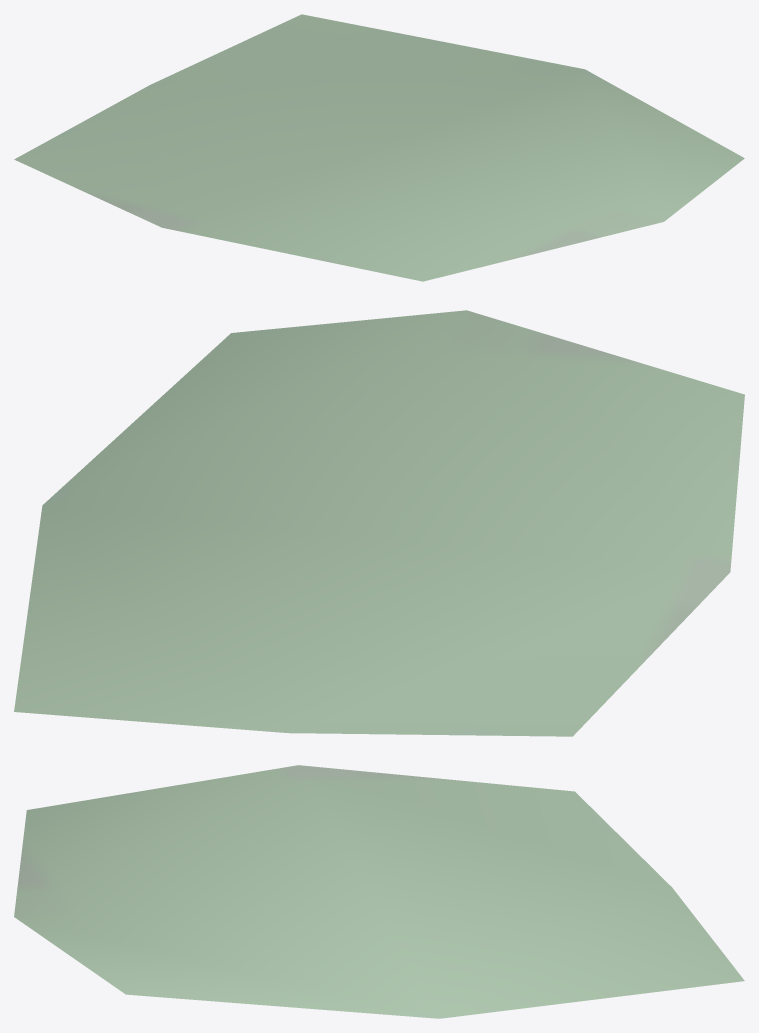
File: TROLLHOLE02_HOLECAP19.fbx
3 renders of one model, top to bottom at view 1: azimuth 30°, elevation 25°; view 2: azimuth 150°, elevation 25°; view 3: azimuth 270°, elevation 25°, orthographic. The views are drawn at different scales.
Visible parts, largest first — view 1: TROLLHOLE02_HOLECAP19; view 2: TROLLHOLE02_HOLECAP19; view 3: TROLLHOLE02_HOLECAP19.
Part boxes in pixels (<box>): TROLLHOLE02_HOLECAP19: <box>14,14,744,281</box>; TROLLHOLE02_HOLECAP19: <box>14,310,744,736</box>; TROLLHOLE02_HOLECAP19: <box>14,765,744,1018</box>.
Bounding box in the file's own units: 26107 × 3065 × 32814.
1 material, 1 textured.
